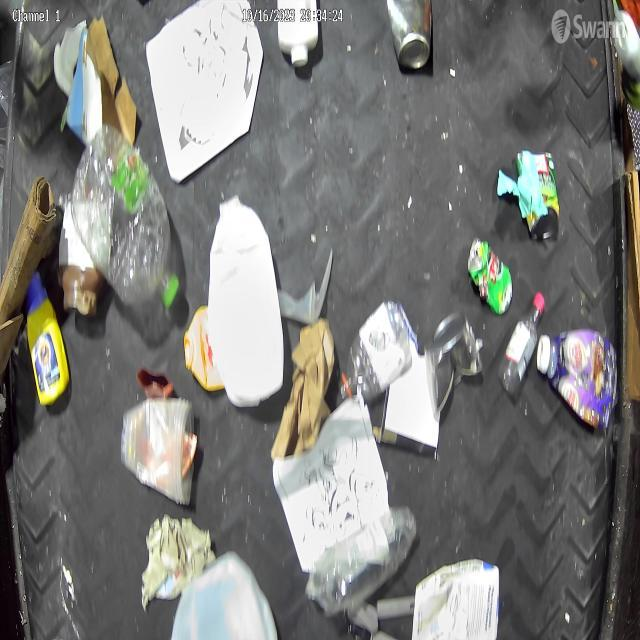can: (428, 310, 484, 413), (462, 233, 513, 314), (383, 0, 433, 79)
milk_jug: (205, 190, 286, 409), (172, 553, 280, 640)
plastic_bottle: (73, 128, 182, 324), (342, 304, 419, 409)
